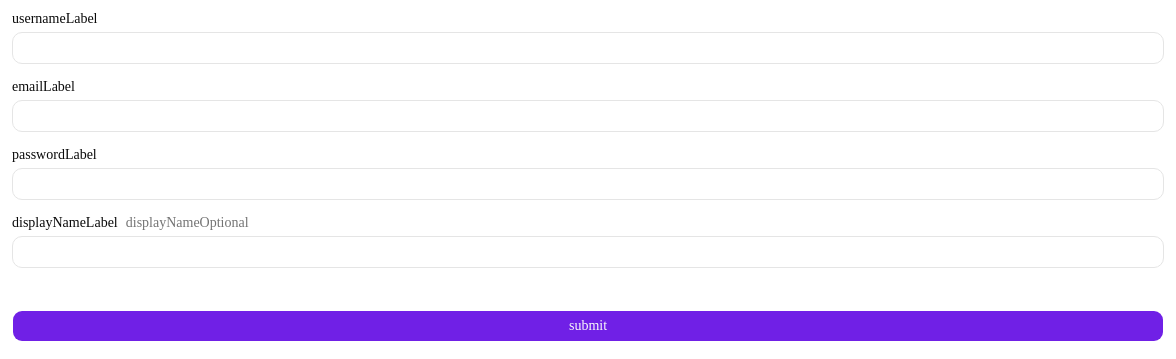
RegisterForm › shows the first zod field error above the button and never hits the network for an invalid submission
In the field labelled "usernameLabel": [588, 48] box [12, 32, 1164, 64], type "ab"
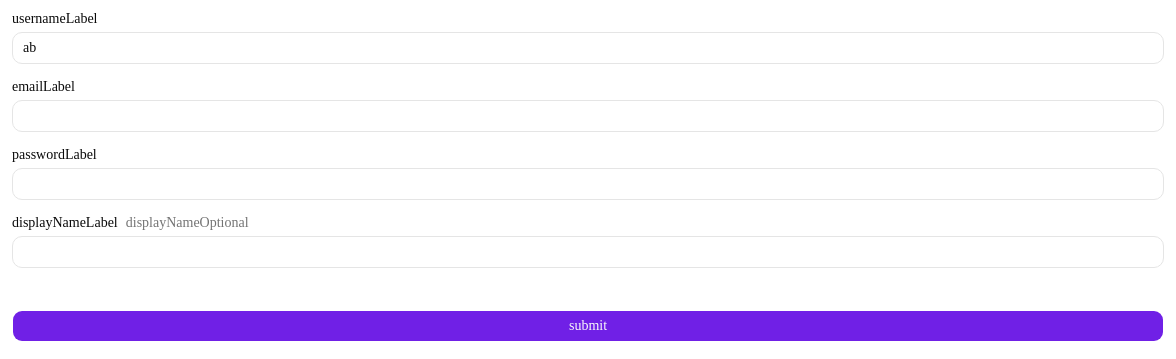
In the field labelled "emailLabel": [588, 116] box [12, 100, 1164, 132], type "not-an-email"
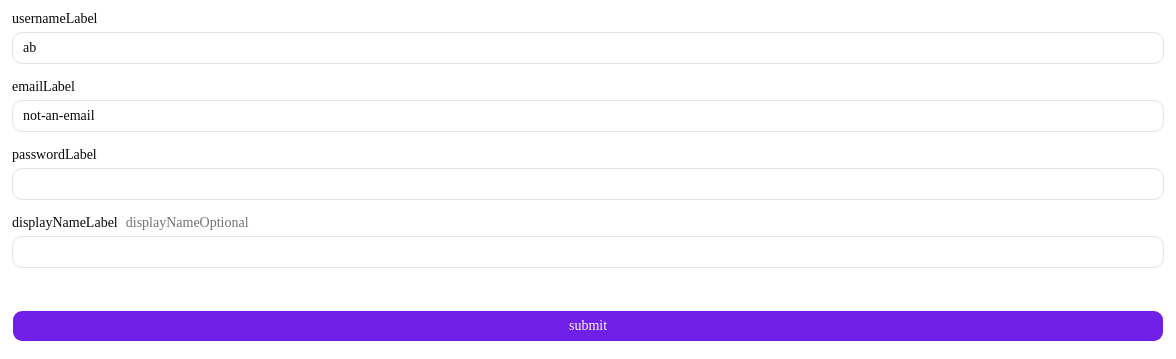
In the password field labelled "passwordLabel": [588, 184] box [12, 168, 1164, 200], type "short"
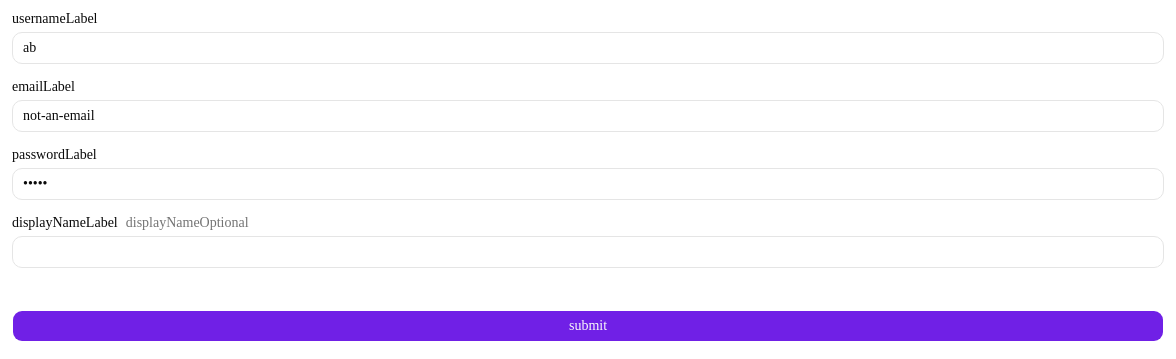
Click the button "submit": [588, 326] box [12, 310, 1164, 342]
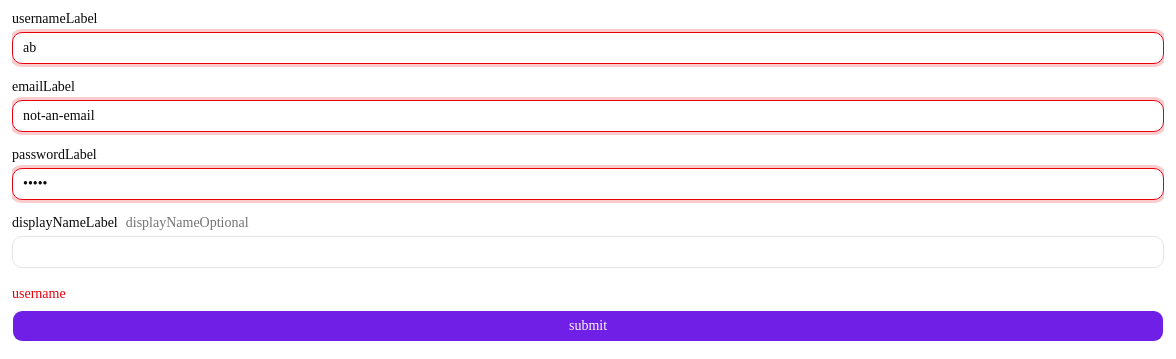
Now the text "username" is shown, box [12, 286, 66, 301]
